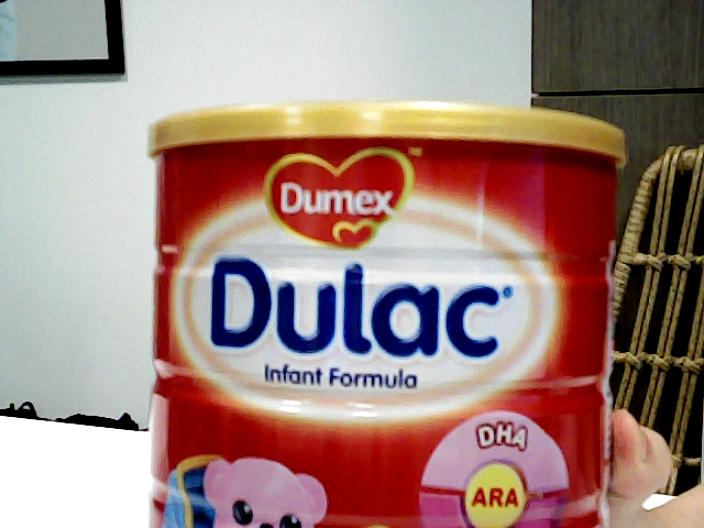Babymilk-powder-_800-899g_NonHalal_NonHealthy: (142, 101, 630, 528)
